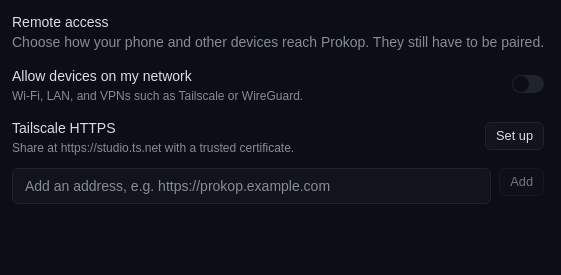
Test: RemoteAccessSection › adds a proxy or VPN address
Type "https://prokop.example.com" into the field named "Address other devices use" at (252, 186), box x1=12 y1=168 x2=491 y2=204
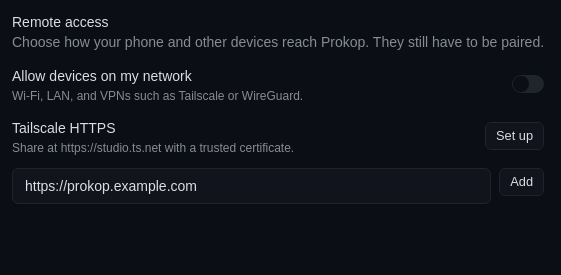
Click the button "Add" at (522, 182), box x1=499 y1=168 x2=544 y2=196
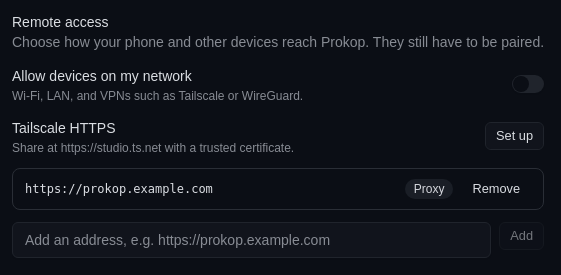
Now the text "https://prokop.example.com" is shown, box x1=25 y1=182 x2=213 y2=196
Now the field named "Address other devices use" is empty, box x1=12 y1=222 x2=491 y2=258
